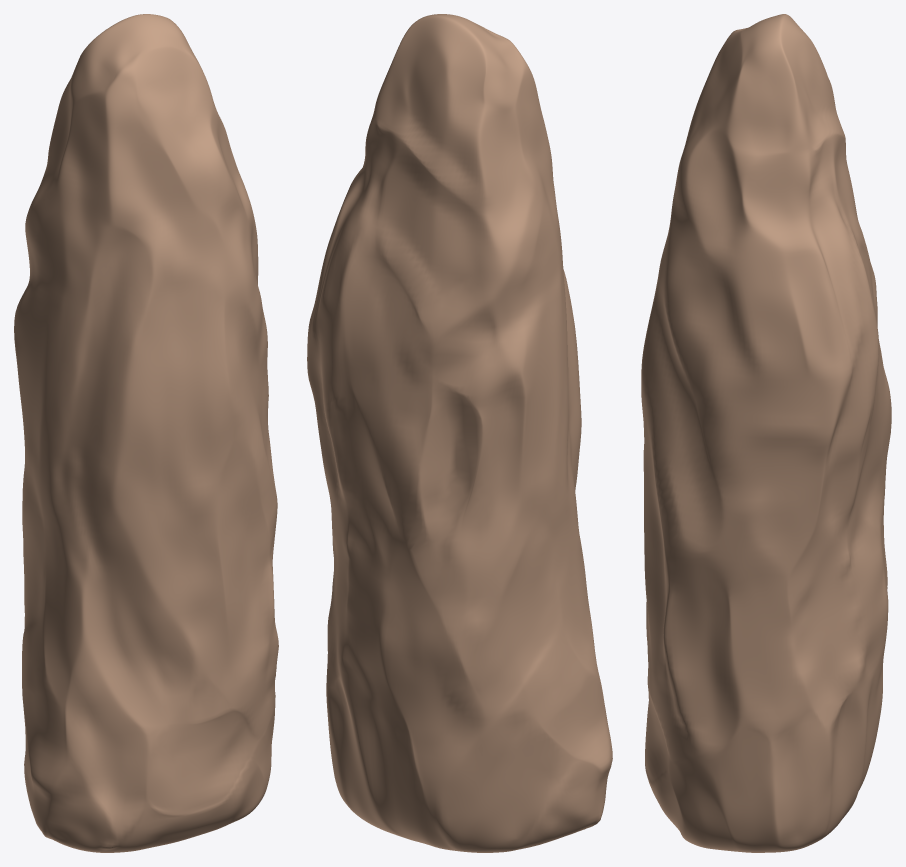
Rendered from Pillar_02_HP.FBX.
The picture shows the model from 3 angles, left to right: view 1: azimuth 30°, elevation 25°; view 2: azimuth 150°, elevation 25°; view 3: azimuth 270°, elevation 25°; orthographic projection. The views are drawn at different scales.
Parts seen in each view (by area): view 1: Box022; view 2: Box022; view 3: Box022.
Boxes of the visible parts, bbox=[...] form: Box022: bbox=[14, 14, 278, 852]; Box022: bbox=[307, 14, 612, 852]; Box022: bbox=[641, 14, 891, 852].
Bounding box in the file's own units: 957 × 2969 × 846.
